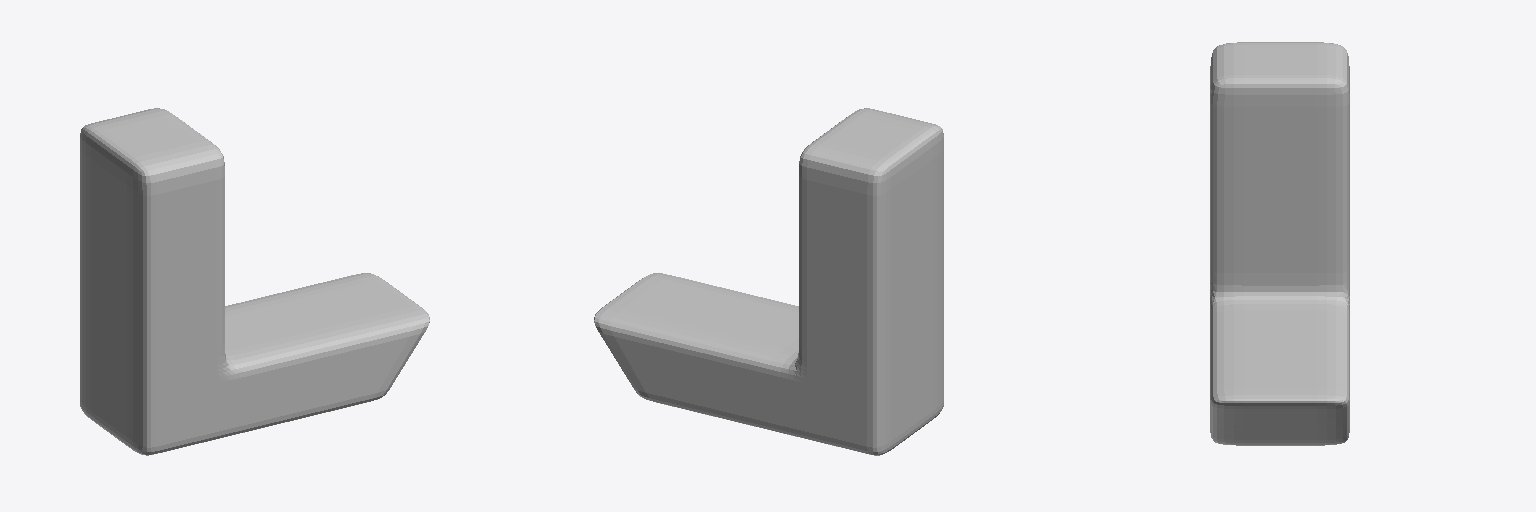
3 renders of one model, left to right at view 1: azimuth 30°, elevation 25°; view 2: azimuth 150°, elevation 25°; view 3: azimuth 270°, elevation 25°, orthographic.
Visible parts, largest first — view 1: polySurface19 text2FixedOneObjectNewNoHistory:pasted__T1; view 2: polySurface19 text2FixedOneObjectNewNoHistory:pasted__T1; view 3: polySurface19 text2FixedOneObjectNewNoHistory:pasted__T1.
Boxes of the visible parts, <box> form: polySurface19 text2FixedOneObjectNewNoHistory:pasted__T1: <box>80,108,429,455</box>; polySurface19 text2FixedOneObjectNewNoHistory:pasted__T1: <box>594,108,943,455</box>; polySurface19 text2FixedOneObjectNewNoHistory:pasted__T1: <box>1210,42,1349,445</box>.
Size of the model in its own units: 413 by 390 by 170.